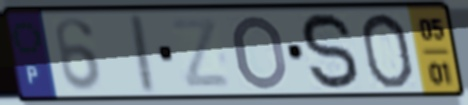6: (52, 14, 105, 94)
I: (129, 11, 160, 97)
O: (231, 13, 291, 92), (358, 11, 416, 91)
S: (299, 10, 362, 93)
Z: (167, 15, 234, 91)
